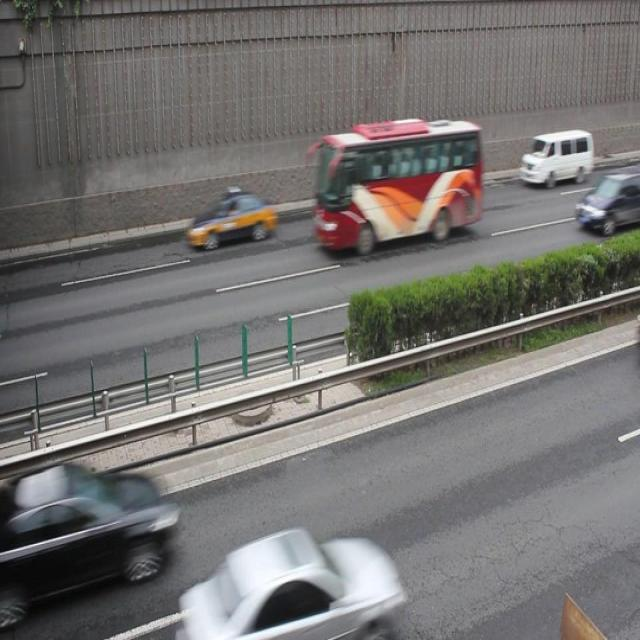car: (176, 526, 402, 640), (12, 462, 172, 608), (187, 191, 277, 251)
truck: (573, 168, 640, 234), (517, 129, 592, 185)
van: (314, 118, 482, 247)
